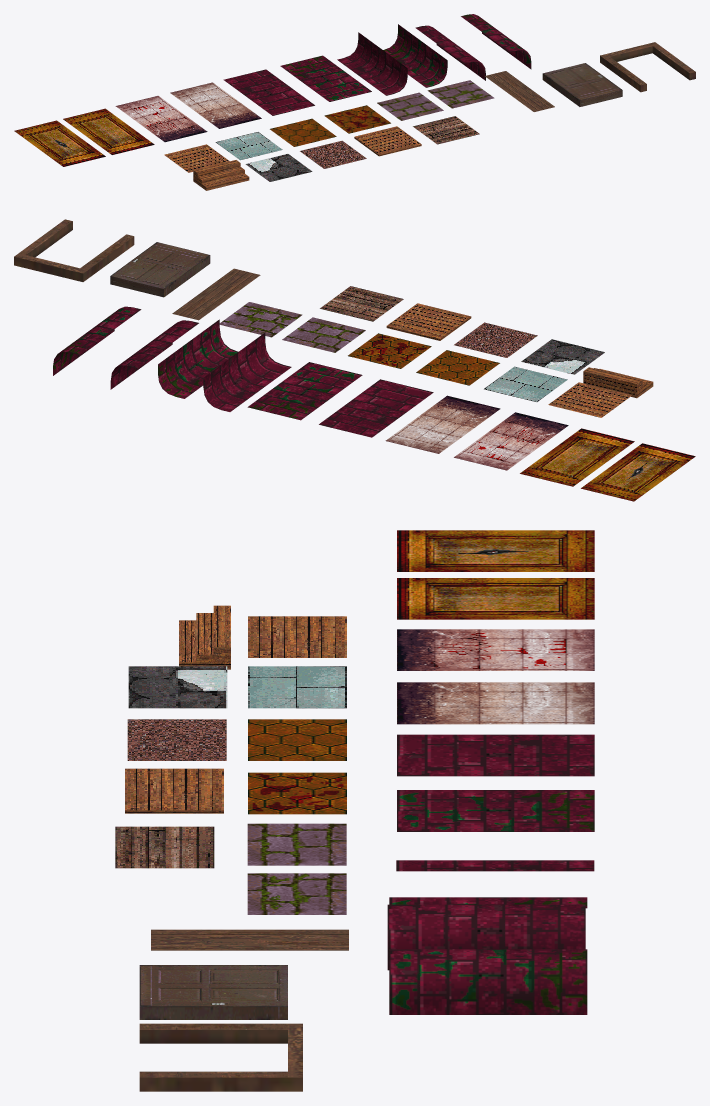
Rendered from section_RED_asset_pack.FBX.
The picture shows the model from 3 angles, top to bottom: view 1: azimuth 30°, elevation 25°; view 2: azimuth 150°, elevation 25°; view 3: azimuth 270°, elevation 25°; orthographic projection. The views are drawn at different scales.
Parts seen in each view (by area): view 1: L-Ext001, Box002, Plane001, Plane007, Plane008, Plane011, Plane002, Plane013, L-Ext002, Door_frame, Box001, StraightStair001 (+12 smaller); view 2: L-Ext001, Box002, Plane002, Plane011, Plane001, Plane008, Plane013, Plane007, L-Ext002, Door_frame, Box001, Plane015 (+12 smaller); view 3: L-Ext004, L-Ext003, Plane001, Plane007, Plane002, Plane008, Plane011, Plane013, Box002, Door_frame, Box001, Plane015 (+12 smaller).
Part boxes in pixels (left/top/right/bottom): L-Ext001: left=337, top=32, right=407, bottom=95; Box002: left=542, top=63, right=622, bottom=106; Plane001: left=223, top=69, right=314, bottom=115; Plane007: left=170, top=82, right=261, bottom=128; Plane008: left=63, top=108, right=154, bottom=154; Plane011: left=14, top=120, right=105, bottom=166; Plane002: left=280, top=55, right=371, bottom=101; Plane013: left=115, top=96, right=207, bottom=142; L-Ext002: left=383, top=24, right=447, bottom=87; Door_frame: left=600, top=42, right=695, bottom=92; Box001: left=354, top=126, right=421, bottom=156; StraightStair001: left=193, top=160, right=249, bottom=190; L-Ext001: left=203, top=332, right=291, bottom=411; Box002: left=110, top=242, right=210, bottom=297; Plane002: left=247, top=362, right=362, bottom=420; Plane011: left=581, top=443, right=695, bottom=501; Plane001: left=319, top=379, right=433, bottom=437; Plane008: left=520, top=428, right=634, bottom=486; Plane013: left=454, top=412, right=568, bottom=470; Plane007: left=385, top=395, right=500, bottom=453; L-Ext002: left=158, top=319, right=238, bottom=398; Door_frame: left=14, top=219, right=134, bottom=281; Box001: left=386, top=303, right=471, bottom=340; Plane015: left=172, top=268, right=260, bottom=320; L-Ext004: left=389, top=949, right=587, bottom=1014; L-Ext003: left=387, top=904, right=585, bottom=970; Plane001: left=397, top=734, right=594, bottom=776; Plane007: left=397, top=682, right=594, bottom=724; Plane002: left=397, top=790, right=594, bottom=831; Plane008: left=397, top=578, right=594, bottom=619; Plane011: left=397, top=530, right=594, bottom=571; Plane013: left=397, top=629, right=594, bottom=670; Box002: left=139, top=965, right=287, bottom=1019; Door_frame: left=139, top=1023, right=302, bottom=1091; Box001: left=125, top=768, right=223, bottom=813; Plane015: left=151, top=929, right=348, bottom=950.
Size of the model in its own units: 3370 by 169 by 1231.
17 materials, 17 textured.
